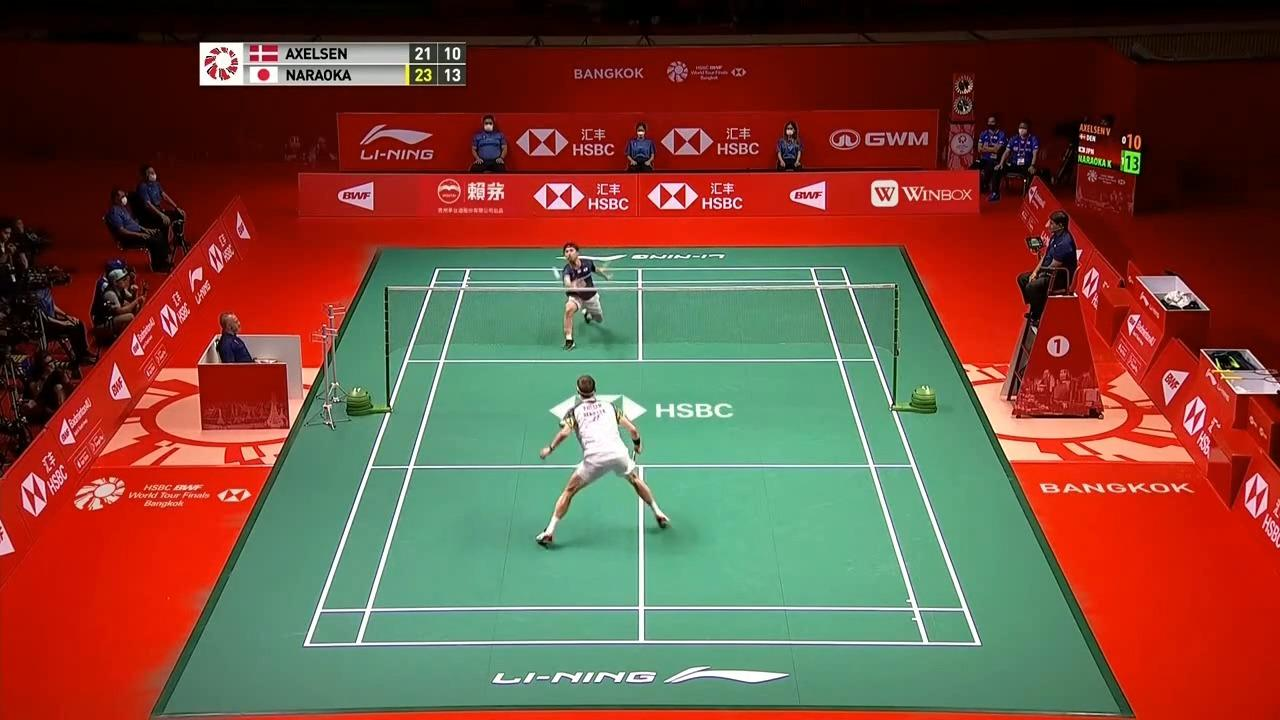shuttle: (553, 263, 561, 282)
